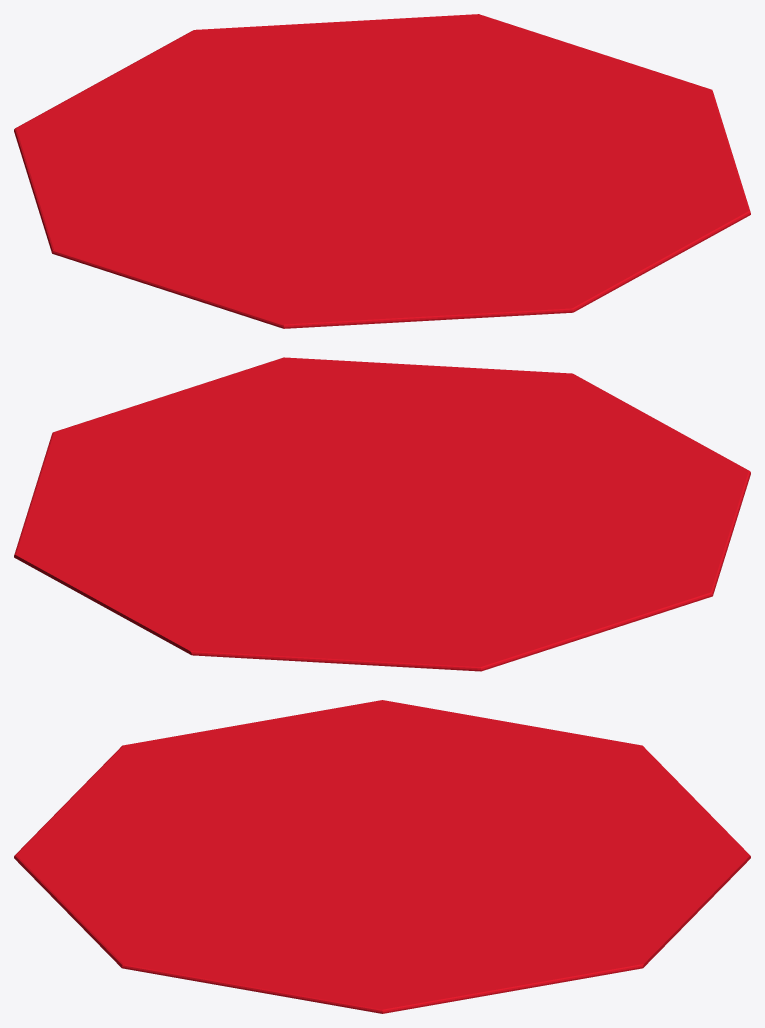
File: AttackArea.fbx
The picture shows the model from 3 angles, top to bottom: view 1: azimuth 30°, elevation 25°; view 2: azimuth 150°, elevation 25°; view 3: azimuth 270°, elevation 25°; orthographic projection. The views are drawn at different scales.
Visible parts, largest first — view 1: Circle; view 2: Circle; view 3: Circle.
Boxes of the visible parts, x1,y1,x2,y2 form: Circle: [14, 14, 750, 328]; Circle: [14, 357, 750, 671]; Circle: [14, 700, 750, 1013].
Bounding box in the file's own units: 1000 × 5 × 1000.
